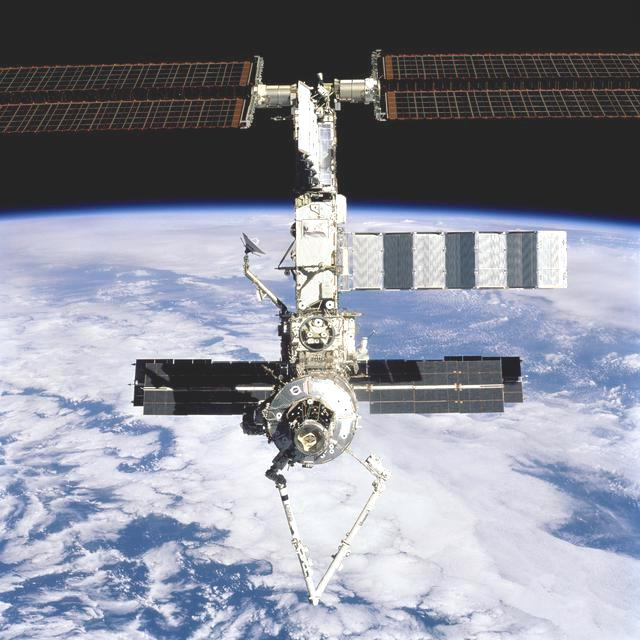satellite: (0, 51, 639, 603)
